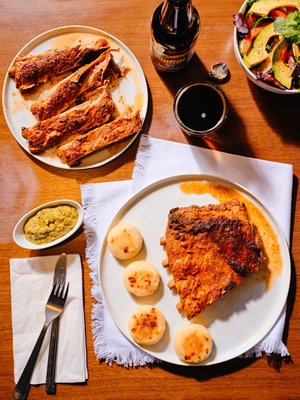burger: (14, 255, 70, 400)
sandwich: (14, 254, 71, 400)
sushi: (232, 0, 300, 96), (13, 199, 84, 250)
